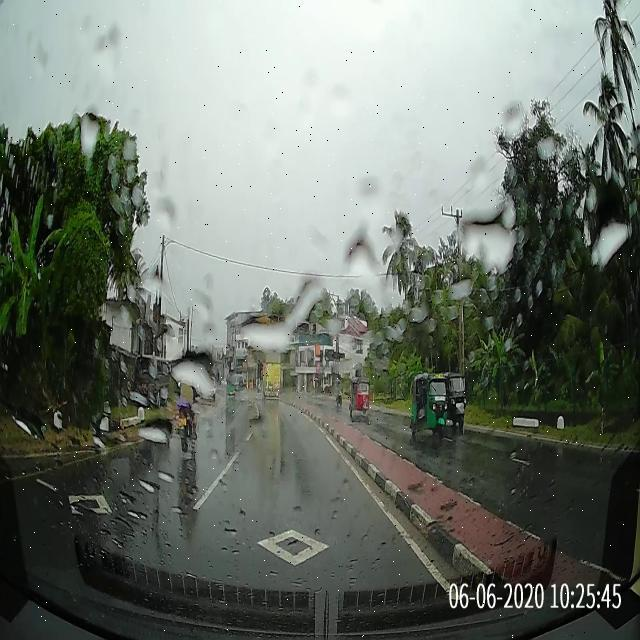diamond: (149, 525, 437, 572)
